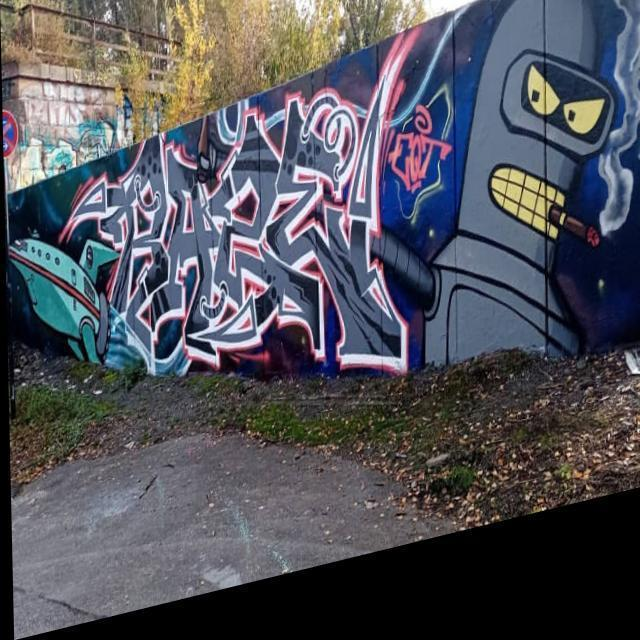nonspitting: (62, 84, 409, 376)
spitting: (423, 0, 614, 370), (9, 230, 121, 363)
